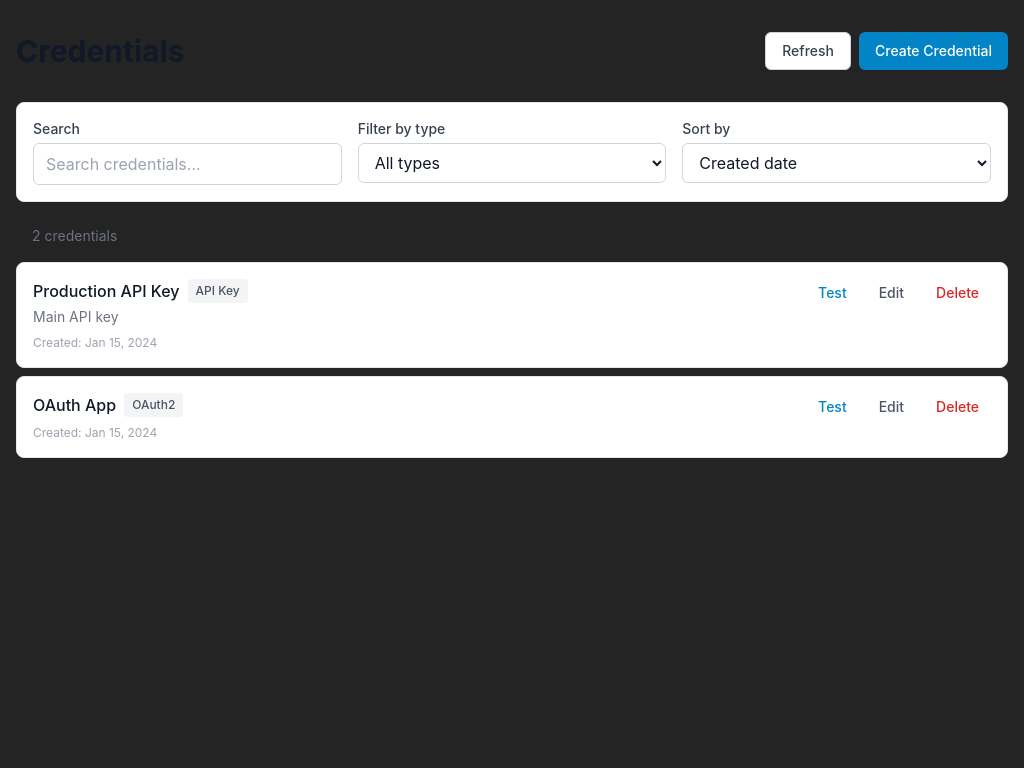
Test case: CredentialManager › shows edit form when edit button is clicked
What coordinates should you click on to do the following:
click the button "Edit" in the row of "Production API Key"
I would click on:
 (891, 293)
Its box is [867,279,916,307].
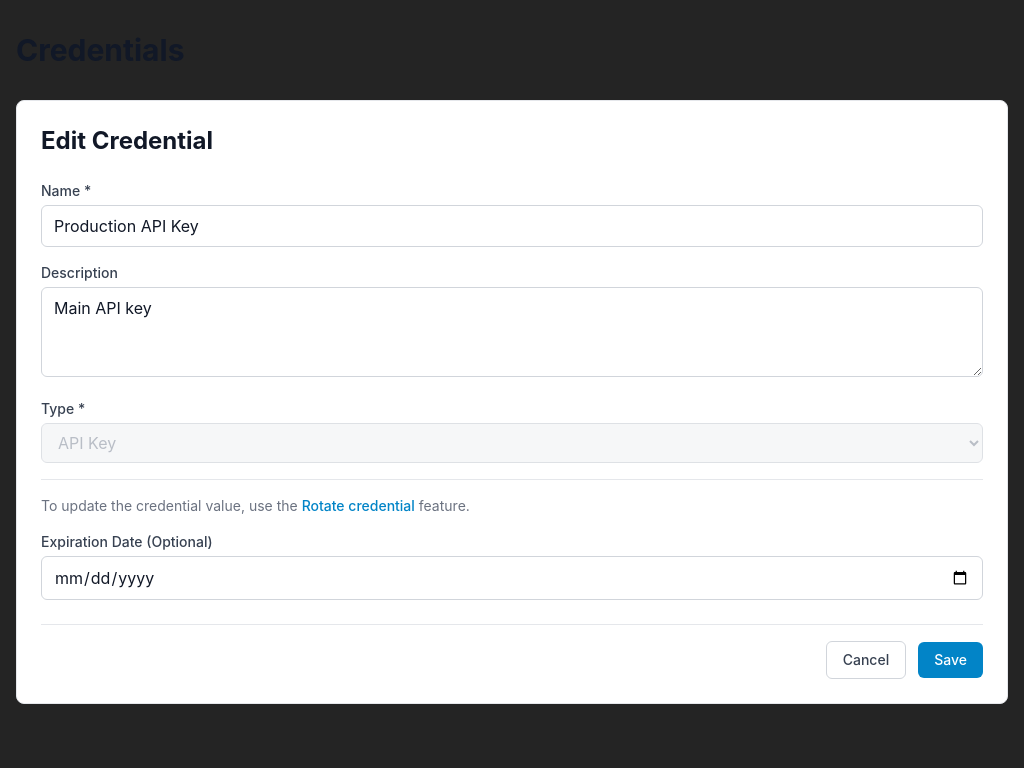
expect the heading "Edit Credential" is shown: met, box [41,126,213,155]
expect the field showing "Production API Key" is shown: met, box [41,205,983,247]
